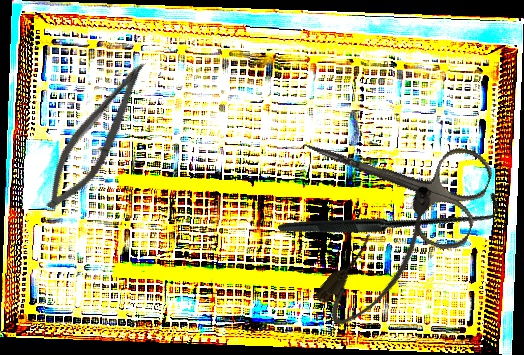Cannula: (309, 177, 457, 336)
Hook Surgical: (277, 101, 505, 329)
Iris Scissors: (286, 94, 498, 258)
Micro Scissor: (34, 49, 157, 221)
